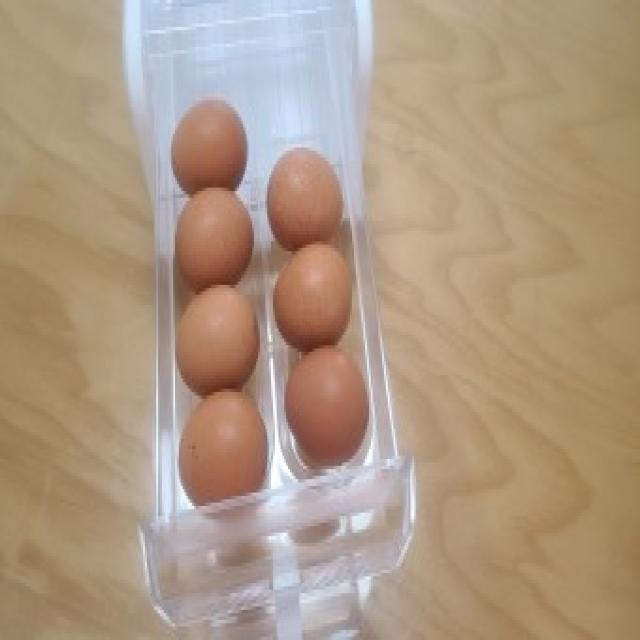eggs: (171, 386, 272, 507), (282, 343, 372, 474), (272, 237, 357, 349), (171, 286, 262, 390), (170, 186, 256, 291), (266, 143, 346, 255), (173, 95, 251, 196)
